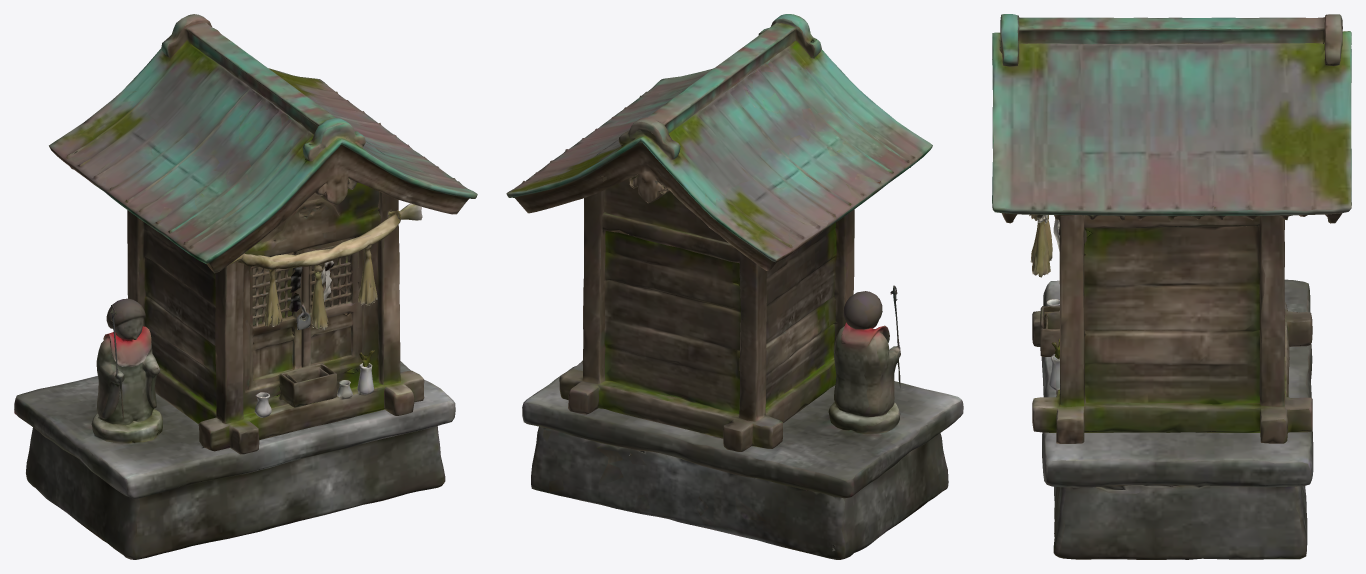
File: hokora.0.glb
3 renders of one model, left to right at view 1: azimuth 30°, elevation 25°; view 2: azimuth 150°, elevation 25°; view 3: azimuth 270°, elevation 25°, orthographic. The views are drawn at different scales.
Visible parts, largest first — view 1: geometry_0; view 2: geometry_0; view 3: geometry_0.
Boxes of the visible parts, x1,y1,x2,y2 form: geometry_0: [14, 14, 477, 559]; geometry_0: [506, 14, 963, 559]; geometry_0: [992, 14, 1351, 559].
Bounding box in the file's own units: 0.8402 × 1 × 0.6943.
Materials: 1 (1 with a texture image).
